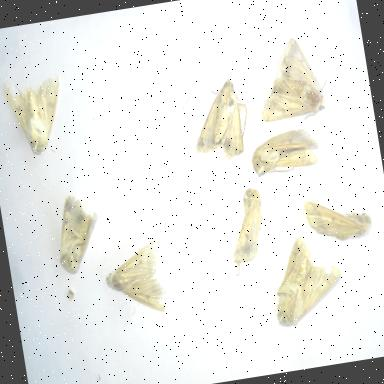abw: (260, 227, 350, 332), (246, 29, 334, 128), (179, 70, 258, 166), (0, 65, 73, 161), (98, 235, 173, 324), (297, 182, 380, 257), (216, 183, 278, 283), (46, 186, 109, 280), (244, 119, 330, 182)
